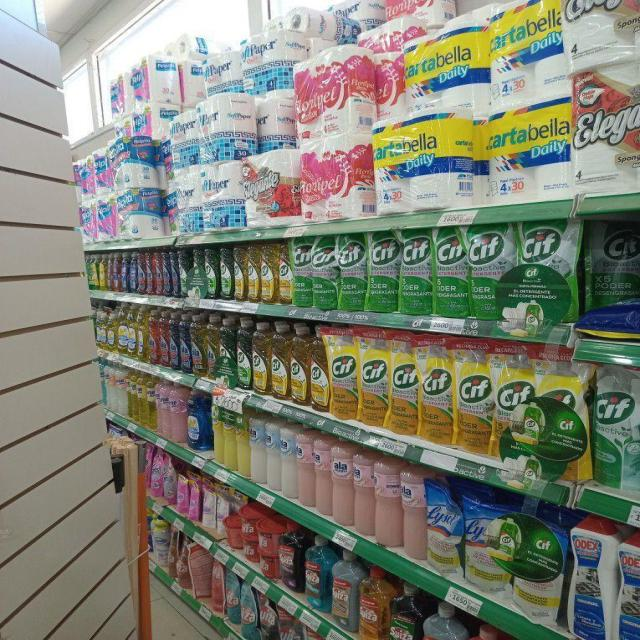ala_conc_amarillo: (192, 314, 206, 376), (206, 316, 218, 380)
ala_conc_azul: (180, 313, 191, 373), (170, 311, 180, 370), (128, 252, 137, 293)
ala_conc_rojo: (159, 311, 170, 367), (148, 308, 158, 365), (163, 248, 172, 297), (154, 250, 163, 296), (146, 251, 154, 296), (138, 251, 146, 294)
ala_crem_amarillo: (237, 408, 250, 477), (224, 404, 236, 471), (214, 401, 224, 466)
ala_crem_blanco: (281, 421, 297, 499), (251, 412, 266, 484), (266, 415, 280, 492)
ala_crem_rosado: (375, 458, 401, 548), (402, 464, 425, 562), (332, 440, 353, 528), (354, 447, 374, 538), (315, 433, 332, 517), (298, 428, 314, 508)
cif_conc_bot_amarilla: (310, 326, 329, 412), (290, 324, 309, 406), (271, 322, 289, 400), (252, 320, 270, 394), (260, 243, 276, 304), (277, 241, 292, 305), (247, 244, 260, 303), (233, 244, 246, 302)
cif_conc_botella_verde: (238, 318, 252, 390), (219, 246, 233, 300), (190, 247, 204, 298), (205, 247, 218, 299)
cif_conc_sachet_amarillo: (455, 341, 494, 454), (420, 338, 454, 444), (389, 332, 419, 437), (359, 328, 389, 428), (330, 326, 358, 420)
cif_conc_sachet_verde: (585, 218, 640, 307), (592, 365, 630, 488), (470, 222, 512, 320), (435, 225, 469, 317), (399, 227, 433, 314), (366, 229, 398, 312), (339, 232, 366, 310), (624, 366, 640, 492), (312, 235, 338, 310), (292, 237, 312, 307)
magistral_con_amarillo: (127, 304, 137, 358), (116, 303, 126, 355), (96, 303, 106, 351), (107, 305, 116, 352)
magistral_con_azul: (618, 532, 640, 640)
